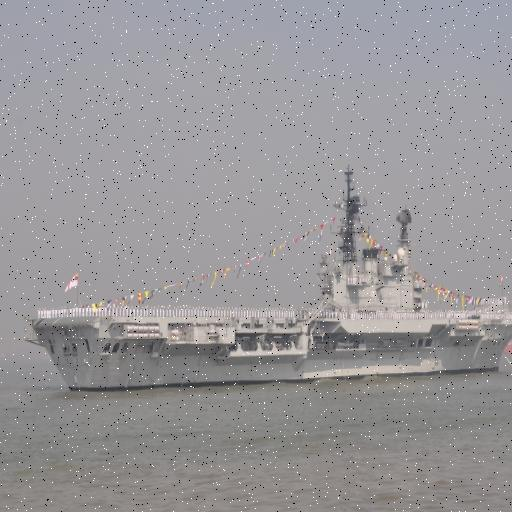Portanaves: (25, 163, 512, 398)
